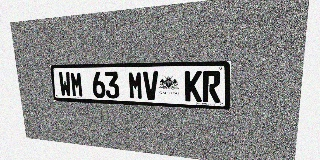3: (104, 71, 119, 99)
6: (91, 71, 106, 98)
K: (185, 71, 202, 102)
M: (128, 71, 143, 100), (70, 72, 84, 97)
R: (202, 71, 221, 103)
V: (143, 71, 159, 100)
W: (58, 72, 72, 97)
